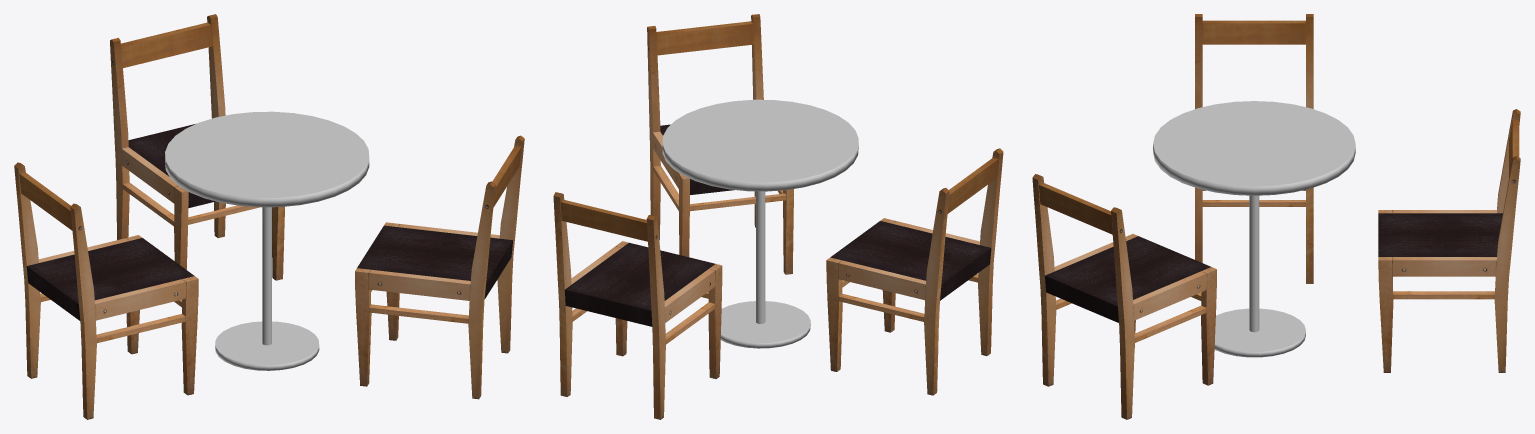
Rendered from table_and_chairs.obj.
The picture shows the model from 3 angles, left to right: view 1: azimuth 30°, elevation 25°; view 2: azimuth 150°, elevation 25°; view 3: azimuth 270°, elevation 25°; orthographic projection. The views are drawn at different scales.
Parts seen in each view (by area): view 1: chair_chair_chair_Mat, chair.002_chair.002_chair_Mat, Cylinder_Cylinder_None, chair.001_chair.001_chair_Mat, Cylinder.002_Cylinder.004_None, Cylinder.001_Cylinder.002_None; view 2: chair.001_chair.001_chair_Mat, chair_chair_chair_Mat, Cylinder_Cylinder_None, chair.002_chair.002_chair_Mat, Cylinder.002_Cylinder.004_None, Cylinder.001_Cylinder.002_None; view 3: chair.002_chair.002_chair_Mat, Cylinder_Cylinder_None, chair.001_chair.001_chair_Mat, chair_chair_chair_Mat, Cylinder.002_Cylinder.004_None, Cylinder.001_Cylinder.002_None.
Part boxes in pixels (x1=…): chair_chair_chair_Mat: x1=14, y1=162, x2=198, y2=419; chair.002_chair.002_chair_Mat: x1=355, y1=135, x2=524, y2=399; Cylinder_Cylinder_None: x1=165, y1=111, x2=369, y2=207; chair.001_chair.001_chair_Mat: x1=110, y1=14, x2=284, y2=280; Cylinder.002_Cylinder.004_None: x1=215, y1=321, x2=319, y2=370; Cylinder.001_Cylinder.002_None: x1=262, y1=207, x2=271, y2=345; chair.001_chair.001_chair_Mat: x1=553, y1=192, x2=722, y2=419; chair_chair_chair_Mat: x1=826, y1=148, x2=1003, y2=395; Cylinder_Cylinder_None: x1=662, y1=99, x2=858, y2=191; chair.002_chair.002_chair_Mat: x1=647, y1=14, x2=793, y2=274; Cylinder.002_Cylinder.004_None: x1=720, y1=301, x2=810, y2=348; Cylinder.001_Cylinder.002_None: x1=756, y1=191, x2=765, y2=323; chair.002_chair.002_chair_Mat: x1=1032, y1=174, x2=1216, y2=419; Cylinder_Cylinder_None: x1=1153, y1=101, x2=1355, y2=195; chair.001_chair.001_chair_Mat: x1=1378, y1=109, x2=1520, y2=372; chair_chair_chair_Mat: x1=1195, y1=14, x2=1313, y2=283; Cylinder.002_Cylinder.004_None: x1=1214, y1=308, x2=1305, y2=357; Cylinder.001_Cylinder.002_None: x1=1249, y1=195, x2=1259, y2=332.
Size of the model in its own units: 5.56 by 2.82 by 5.78.
Materials: 2 (1 with a texture image).
